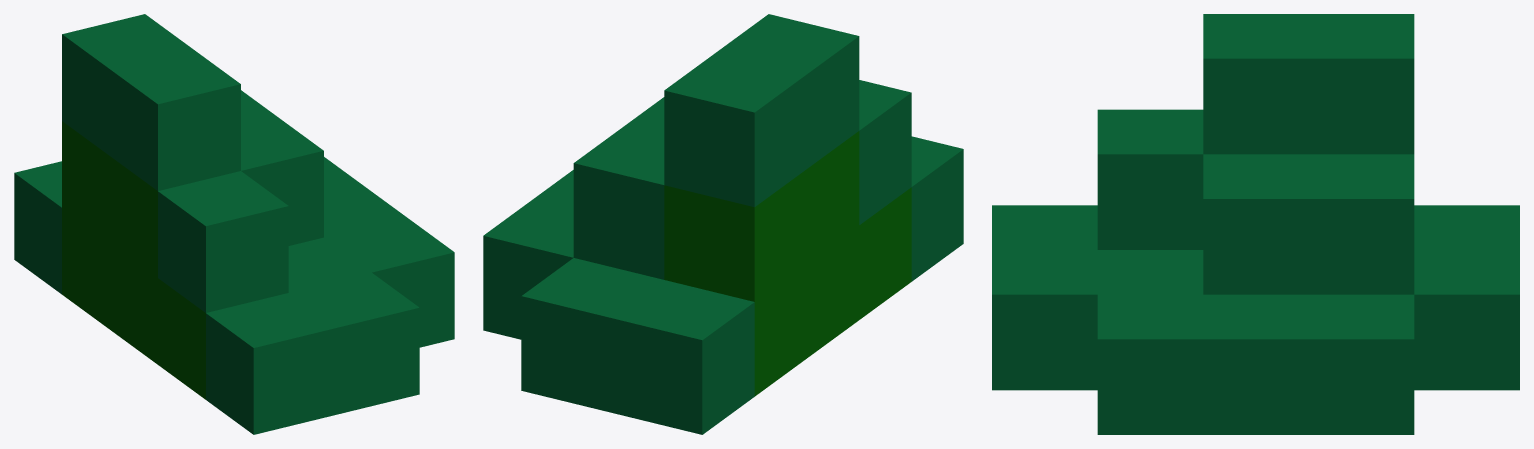
The model's file is amnyam-0.obj.
3 renders of one model, left to right at view 1: azimuth 30°, elevation 25°; view 2: azimuth 150°, elevation 25°; view 3: azimuth 270°, elevation 25°, orthographic. The views are drawn at different scales.
Bounding box in the file's own units: 0.3 × 0.3 × 0.5.
1 material, 1 textured.
